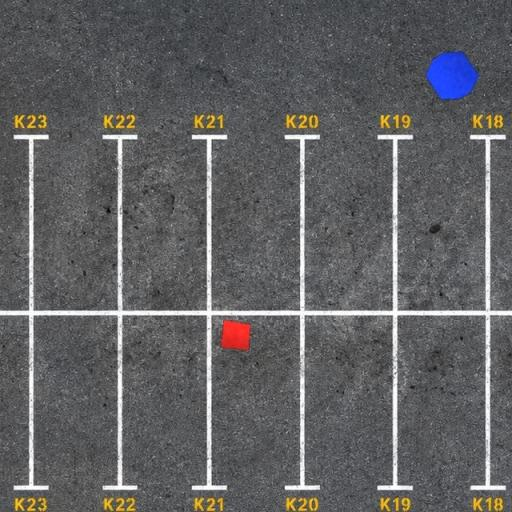RED_SQUARE: (220, 319, 251, 351)
